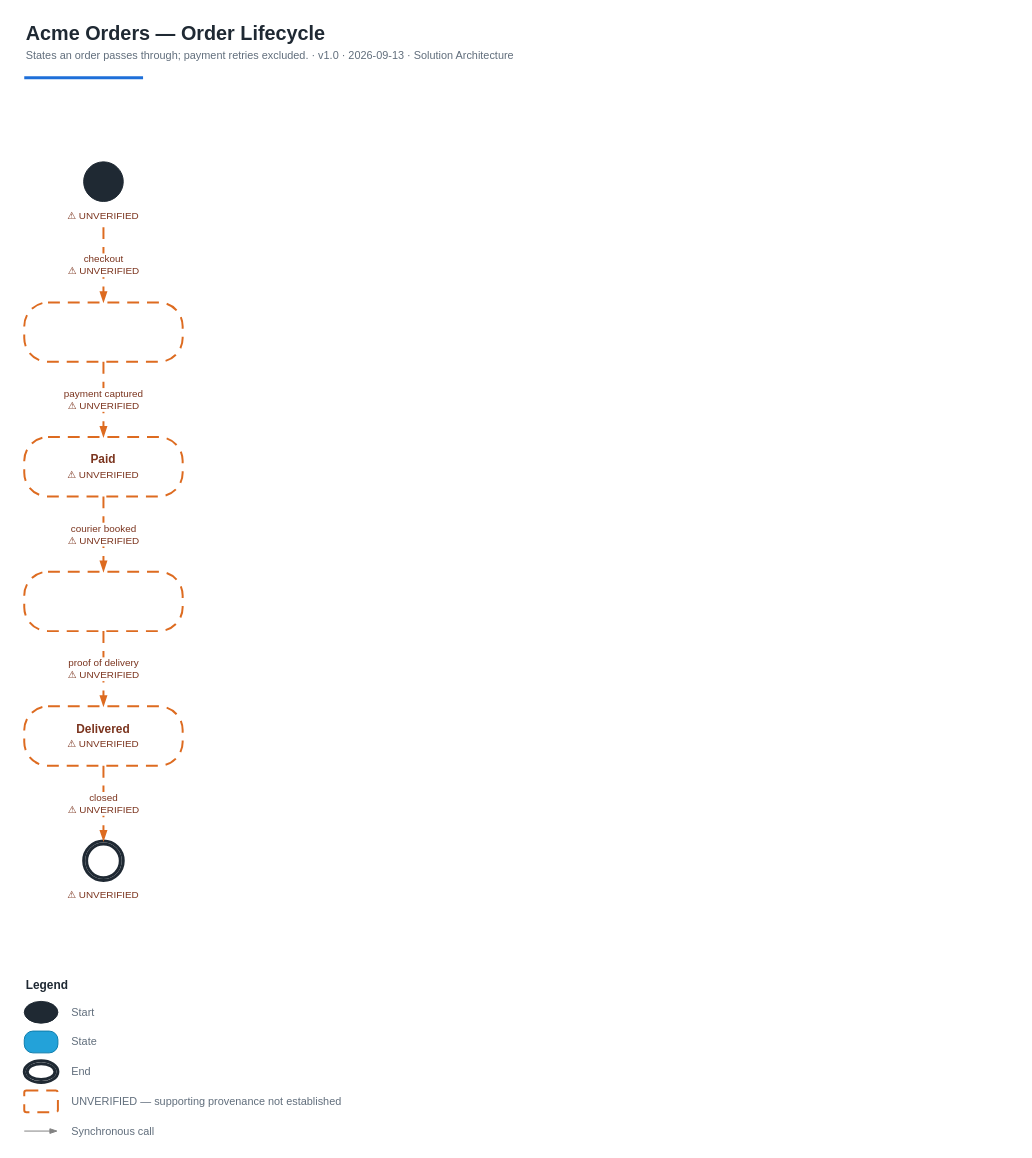
This 1032x1158 diagram has some shape labels left out. Each missing label, with the centre of its shape:
"Placed ⚠ UNVERIFIED" goes at point (103, 331).
"Shipped ⚠ UNVERIFIED" goes at point (103, 601).
